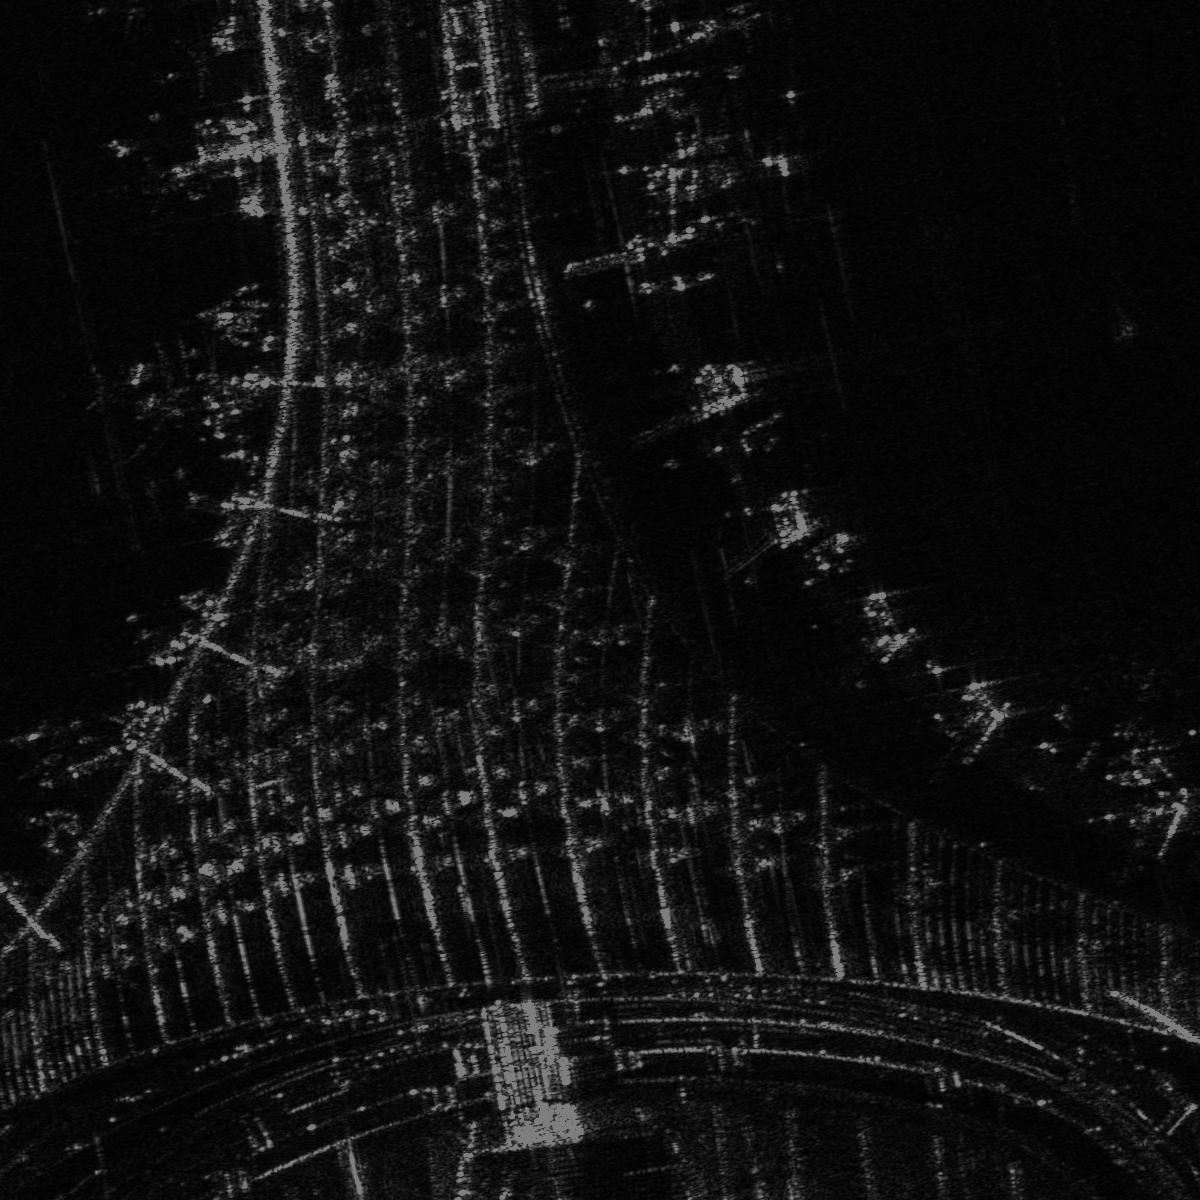Boeing787: (92, 337, 203, 465), (162, 41, 221, 99)
